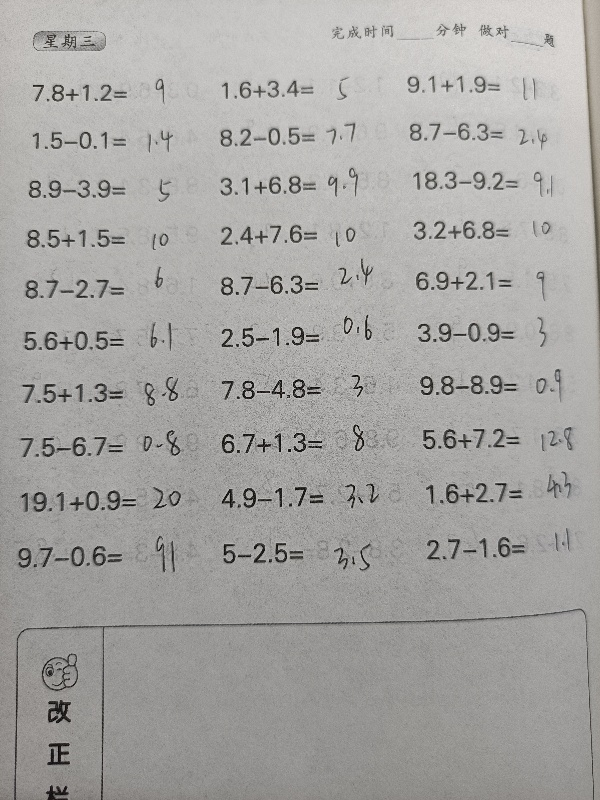equation: (212, 160, 392, 204), (214, 530, 394, 571), (212, 421, 392, 460), (8, 538, 188, 575), (417, 529, 597, 566), (416, 473, 596, 510), (11, 427, 191, 464), (11, 483, 191, 519), (212, 479, 392, 515), (414, 421, 594, 457), (14, 376, 194, 411), (212, 371, 392, 406), (410, 367, 590, 402), (16, 323, 196, 358), (212, 319, 392, 354), (409, 315, 589, 350), (17, 272, 197, 307), (211, 268, 391, 303), (404, 212, 584, 247), (407, 264, 587, 298), (19, 222, 199, 256), (211, 217, 391, 251), (20, 172, 200, 206), (406, 164, 586, 198), (211, 120, 391, 154), (401, 115, 581, 149), (24, 124, 204, 157), (25, 77, 205, 110), (214, 72, 394, 105), (399, 69, 579, 101)
